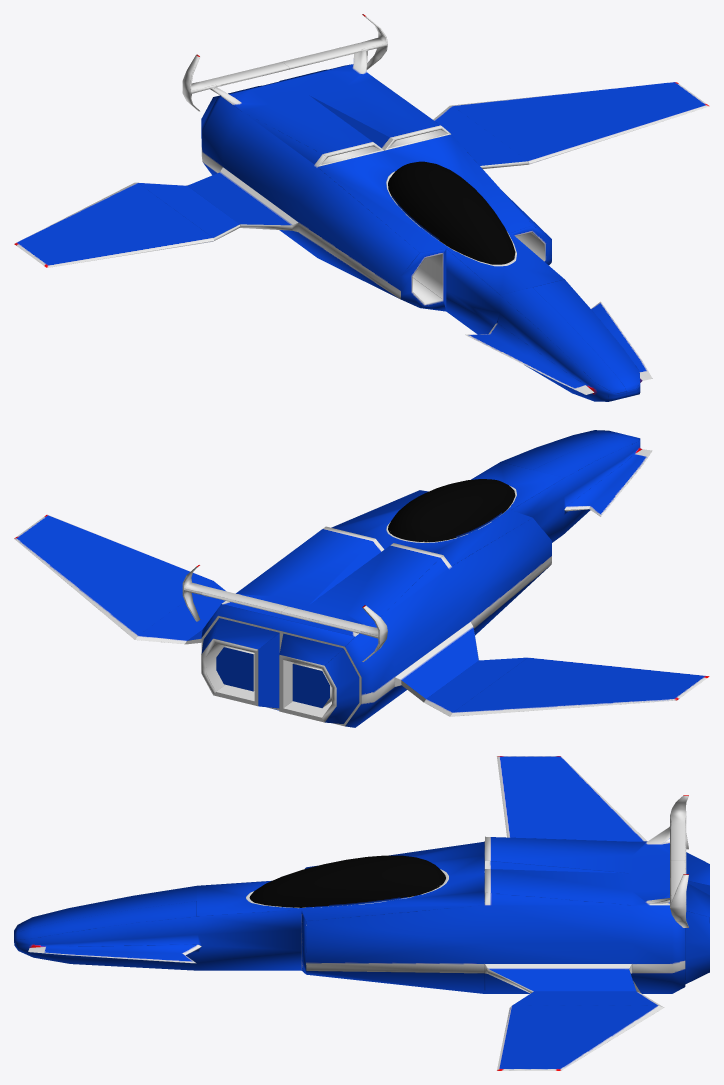
Rendered from ship.fbx.
3 renders of one model, top to bottom at view 1: azimuth 30°, elevation 25°; view 2: azimuth 150°, elevation 25°; view 3: azimuth 270°, elevation 25°, orthographic. The views are drawn at different scales.
Visible parts, largest first — view 1: Cube; view 2: Cube; view 3: Cube.
Boxes of the visible parts, x1=… form: Cube: x1=14, y1=14, x2=709, y2=401; Cube: x1=14, y1=430, x2=709, y2=727; Cube: x1=14, y1=756, x2=709, y2=1070.
Bounding box in the file's own units: 1172 × 221 × 1095.
